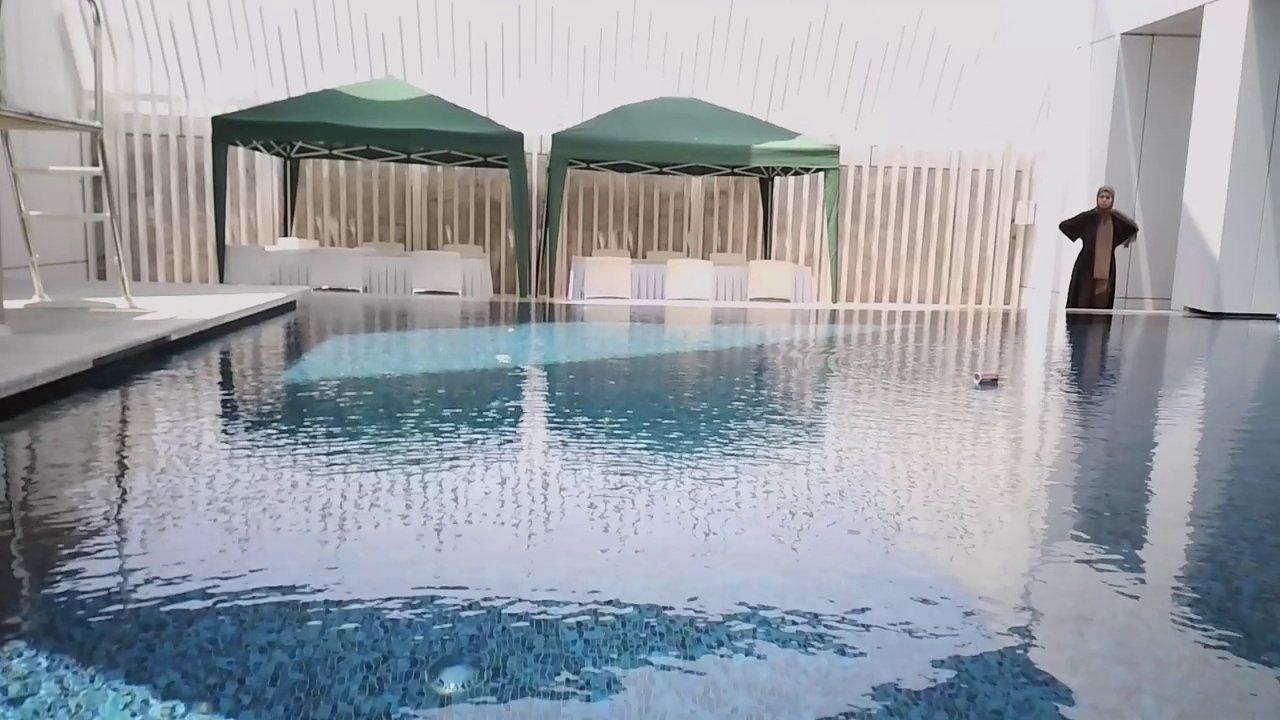debris: (972, 369, 1001, 389)
